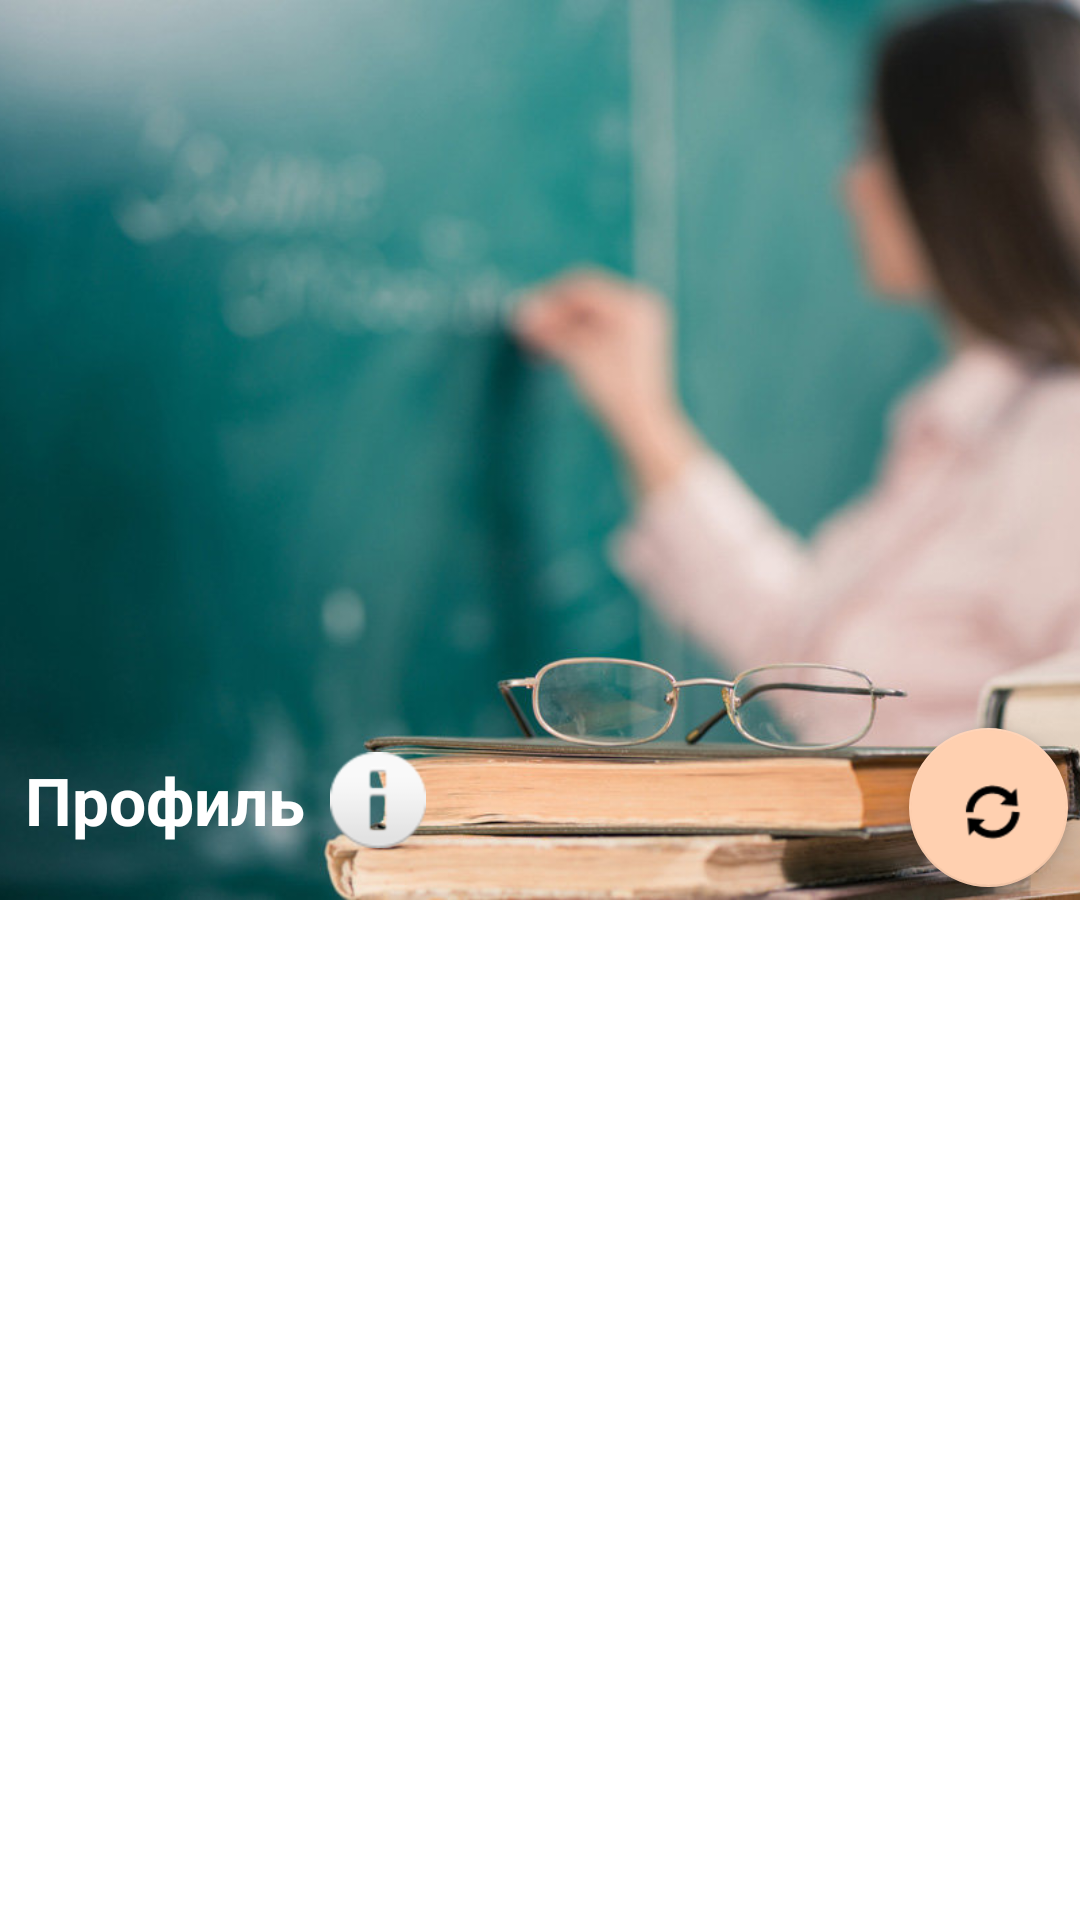

Where to tap for icons on this 1080w x 1920h app screen, as (x,y):
popup sync: (988,807)
